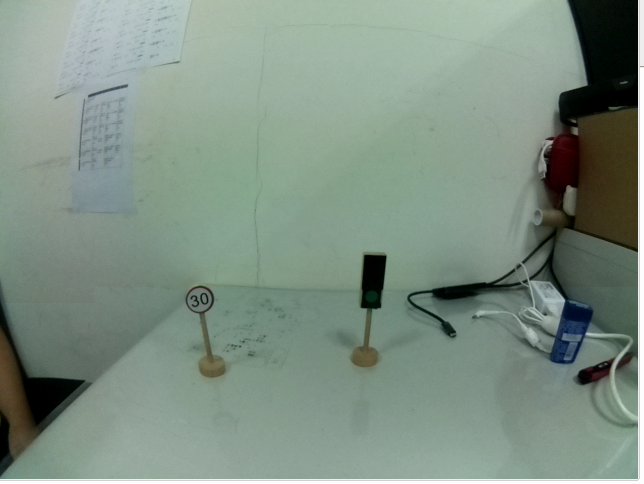Green: (355, 247, 392, 313)
Speed30: (183, 283, 220, 315)
